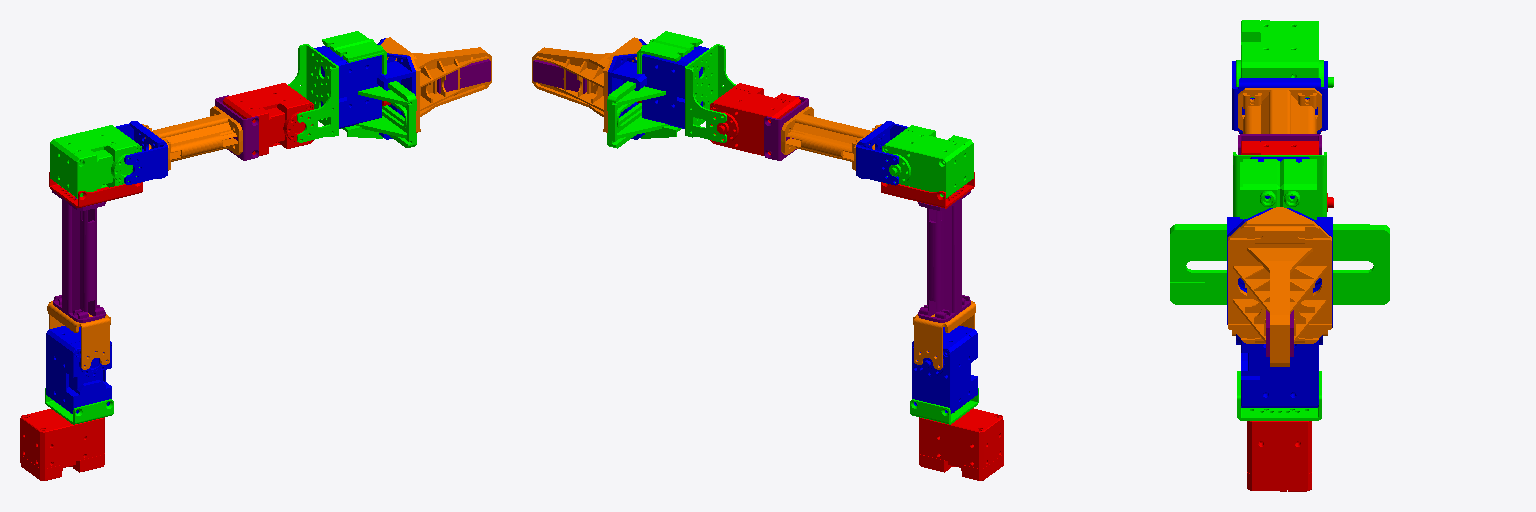
robot.urdf — rx_m52:
<?xml version="1.0" ?>
<robot name="rx_m52">

    <!-- 색상 정의 -->
    <material name="red">
        <color rgba="1.0 0.0 0.0 1.0"/>
    </material>
    <material name="green">
        <color rgba="0.0 1.0 0.0 1.0"/>
    </material>
    <material name="blue">
        <color rgba="0.0 0.0 1.0 1.0"/>
    </material>
    <material name="orange">
        <color rgba="1.0 0.5 0.0 1.0"/>
    </material>
    <material name="purple">
        <color rgba="0.5 0.0 0.5 1.0"/>
    </material>

    <!-- Base Link -->
    <link name="base_link" />


<!--순서-->
<!--   1=>2=>3=>... => body => right+left  -->


    <!-- Joint 1 -->
    <link name="joint1">
        <visual>
            <geometry>
                <mesh filename="package://rm_x52/meshes/joint1.stl" scale="0.001 0.001 0.001"/>
            </geometry>
            <material name="red"/>
        </visual>
    </link>

    <!-- Link 2 -->
    <link name="link2">
        <visual>
            <geometry>
                <mesh filename="package://rm_x52/meshes/link2.stl" scale="0.001 0.001 0.001"/>
            </geometry>
            <material name="green"/>
        </visual>
    </link>

    <!-- Joint 3 -->
    <link name="joint3">
        <visual>
            <geometry>
                <mesh filename="package://rm_x52/meshes/joint3.stl" scale="0.001 0.001 0.001"/>
            </geometry>
            <material name="blue"/>
        </visual>
    </link>

    <!-- Link 4 -->
    <link name="link4">
        <visual>
            <geometry>
                <mesh filename="package://rm_x52/meshes/link4.stl" scale="0.001 0.001 0.001"/>
            </geometry>
            <material name="orange"/>
        </visual>
    </link>

    <!-- Link 5 -->
    <link name="link5">
        <visual>
            <geometry>
                <mesh filename="package://rm_x52/meshes/link5.stl" scale="0.001 0.001 0.001"/>
            </geometry>
            <material name="purple"/>
        </visual>
    </link>

    <!-- Link 6 -->
    <link name="link6">
        <visual>
            <geometry>
                <mesh filename="package://rm_x52/meshes/link6.stl" scale="0.001 0.001 0.001"/>
            </geometry>
            <material name="red"/>
        </visual>
    </link>

    <!-- Joint 7 -->
    <link name="joint7">
        <visual>
            <geometry>
                <mesh filename="package://rm_x52/meshes/joint7.stl" scale="0.001 0.001 0.001"/>
            </geometry>
            <material name="green"/>
        </visual>
    </link>

    <!-- Link 8 -->
    <link name="link8">
        <visual>
            <geometry>
                <mesh filename="package://rm_x52/meshes/link8.stl" scale="0.001 0.001 0.001"/>
            </geometry>
            <material name="blue"/>
        </visual>
    </link>


    <!-- Link 9 -->
    <link name="link9">
        <visual>
            <geometry>
                <mesh filename="package://rm_x52/meshes/link9.stl" scale="0.001 0.001 0.001"/>
            </geometry>
            <material name="orange"/>
        </visual>
    </link>

    <!-- Link 10 -->
    <link name="link10">
        <visual>
            <geometry>
                <mesh filename="package://rm_x52/meshes/link10.stl" scale="0.001 0.001 0.001"/>
            </geometry>
            <material name="purple"/>
        </visual>
    </link>

    <!-- Joint 11 -->
    <link name="joint11">
        <visual>
            <geometry>
                <mesh filename="package://rm_x52/meshes/joint11.stl" scale="0.001 0.001 0.001"/>
            </geometry>
            <material name="red"/>
        </visual>
    </link>

    <!-- Link 12 -->
    <link name="link12">
        <visual>
            <geometry>
                <mesh filename="package://rm_x52/meshes/link12.stl" scale="0.001 0.001 0.001"/>
            </geometry>
            <material name="green"/>
        </visual>
    </link>


    <!-- Joint 13 -->
    <link name="joint13">
        <visual>
            <geometry>
                <mesh filename="package://rm_x52/meshes/joint13.stl" scale="0.001 0.001 0.001"/>
            </geometry>
            <material name="blue"/>
        </visual>
    </link>

    <!-- Left Finger 1 -->
    <link name="left_finger1">
        <visual>
            <geometry>
                <mesh filename="package://rm_x52/meshes/left_finger1.stl" scale="0.001 0.001 0.001"/>
            </geometry>
            <material name="green"/>
        </visual>
    </link>

    <!-- Right Finger 1 -->
    <link name="right_finger1">
        <visual>
            <geometry>
                <mesh filename="package://rm_x52/meshes/right_finger1.stl" scale="0.001 0.001 0.001"/>
            </geometry>
            <material name="green"/>
        </visual>
    </link>

    <!-- Left Finger 2 -->
    <link name="left_finger2">
        <visual>
            <geometry>
                <mesh filename="package://rm_x52/meshes/left_finger2.stl" scale="0.001 0.001 0.001"/>
            </geometry>
            <material name="blue"/>
        </visual>
    </link>

    <!-- Right Finger 2 -->
    <link name="right_finger2">
        <visual>
            <geometry>
                <mesh filename="package://rm_x52/meshes/right_finger2.stl" scale="0.001 0.001 0.001"/>
            </geometry>
            <material name="blue"/>
        </visual>
    </link>

    <!-- Left Finger 3 -->
    <link name="left_finger3">
        <visual>
            <geometry>
                <mesh filename="package://rm_x52/meshes/left_finger3.stl" scale="0.001 0.001 0.001"/>
            </geometry>
            <material name="orange"/>
        </visual>
    </link>

    <!-- Right Finger 3 -->
    <link name="right_finger3">
        <visual>
            <geometry>
                <mesh filename="package://rm_x52/meshes/right_finger3.stl" scale="0.001 0.001 0.001"/>
            </geometry>
            <material name="orange"/>
        </visual>
    </link>


    <!-- Left Finger 4 -->
    <link name="left_finger4">
        <visual>
            <geometry>
                <mesh filename="package://rm_x52/meshes/left_finger4.stl" scale="0.001 0.001 0.001"/>
            </geometry>
            <material name="purple"/>
        </visual>
    </link>

    <!-- Right Finger 4 -->
    <link name="right_finger4">
        <visual>
            <geometry>
                <mesh filename="package://rm_x52/meshes/right_finger4.stl" scale="0.001 0.001 0.001"/>
            </geometry>
            <material name="purple"/>
        </visual>
    </link>


    <!-- Finger Center -->
    <link name="finger_center">
        <visual>
            <geometry>
                <mesh filename="package://rm_x52/meshes/finger_center.stl" scale="0.001 0.001 0.001"/>
            </geometry>
            <material name="red"/>
        </visual>
    </link>






    <!-- Base to Joint1 -->
    <joint name="base_joint1" type="revolute">
        <parent link="base_link"/>
        <child link="joint1"/>
        <origin xyz="0 0 0" rpy="1.57 0 0"/> <!-- 6mm -->
        <axis xyz="0 1 0"/> <!-- z축 회전 -->
        <limit lower="-3.14159" upper="3.14159" effort="50.0" velocity="1.0"/>
    </joint>

    <!-- Joint1 to Link2 -->
    <joint name="joint1_link2" type="fixed">
        <parent link="joint1"/>
        <child link="link2"/>
        <origin xyz="0 0.055 0" rpy="0 0 0"/>
    </joint>

    <!-- Link2 to Joint3 -->
    <joint name="link2_joint3" type="fixed">
        <parent link="link2"/>
        <child link="joint3"/>
        <origin xyz="0 0.021 0" rpy="0 0 0"/>
    </joint>

    <!-- Joint3 to Link4 -->
    <joint name="joint3_link4" type="revolute">
        <parent link="joint3"/>
        <child link="link4"/>
        <origin xyz="0 0 0" rpy="0 0 0"/>
        <axis xyz="0 0 1"/>
        <limit lower="-1.57" upper="1.57" effort="50.0" velocity="1.0"/>
    </joint>

    <!-- Link4 to Link5 -->
    <joint name="link4_link5" type="fixed">
        <parent link="link4"/>
        <child link="link5"/>
        <origin xyz="0 0.028 0" rpy="0 0 0"/>
    </joint>

    <!-- Link5 to Link6 -->
    <joint name="link5_link6" type="fixed">
        <parent link="link5"/>
        <child link="link6"/>
        <origin xyz="0 0.099 0" rpy="0 0 0"/>
    </joint>

        <!-- Link6 to Joint7 -->
    <joint name="link6_joint7" type="fixed">
        <parent link="link6"/>
        <child link="joint7"/>
        <origin xyz="0.024 0 0" rpy="0 0 0"/>
    </joint>

    <!-- Joint7 to Link8 -->
    <joint name="joint7_link8" type="revolute">
        <parent link="joint7"/>
        <child link="link8"/>
        <origin xyz="0 0 0" rpy="0 0 0"/>
        <axis xyz="0 0 1"/>
        <limit lower="-1.57" upper="1.57" effort="50.0" velocity="1.0"/>
    </joint>

    <!-- Link8 to Link9 -->
    <joint name="link8_link9" type="fixed">
        <parent link="link8"/>
        <child link="link9"/>
        <origin xyz="0.028 0 0" rpy="0 0 0"/>
    </joint>

    <!-- Link9 to Link10 -->
    <joint name="link9_link10" type="fixed">
        <parent link="link9"/>
        <child link="link10"/>
        <origin xyz="0.075 0 0" rpy="0 0 0"/>
    </joint>

    <!-- Link10 to Joint11 -->
    <joint name="link10_joint11" type="fixed">
        <parent link="link10"/>
        <child link="joint11"/>
        <origin xyz="0.021 0 0" rpy="0 0 0"/>
    </joint>

    <!-- Joint11 to Link12 -->
    <joint name="joint11_link12" type="revolute">
        <parent link="joint11"/>
        <child link="link12"/>
        <origin xyz="0 0 0" rpy="0 0 0"/>
        <axis xyz="0 0 1"/>
        <limit lower="-1.57" upper="1.57" effort="50.0" velocity="1.0"/>
    </joint>


    <!-- Link12 to Joint13 -->
    <joint name="link12_joint13" type="fixed">
        <parent link="link12"/>
        <child link="joint13"/>
        <origin xyz="0.045 0 0" rpy="0 0 0"/>
    </joint>



    <!--Gripper 1 -->
    <joint name="joint13_lbody1" type="fixed">
        <parent link="joint13"/>
        <child link="left_finger1"/>
        <origin xyz="0.022 0 0.002" rpy="0 0 0"/>
    </joint>


    <joint name="joint13_rbody1" type="fixed">
        <parent link="joint13"/>
        <child link="right_finger1"/>
        <origin xyz="0.022 0 -0.002" rpy="0 0 0"/>
    </joint>

   <!--Gripper 2 -->
    <joint name="lbody1_lbody2" type="prismatic">
        <parent link="left_finger1"/>
        <child link="left_finger2"/>
        <origin xyz="0 0 -0.015" rpy="0 0 0"/>
        <axis xyz="0 0 1"/> <!-- z축 방향 -->
        <limit lower="0.0" upper="0" effort="50.0" velocity="3.0"/>
    </joint>

    <joint name="rbody1_rbody2" type="prismatic">
        <parent link="right_finger1"/>
        <child link="right_finger2"/>
        <origin xyz="0 0 0.015" rpy="0 0 0"/>
        <axis xyz="0 0 1"/>
        <limit lower="0.0" upper="0.03" effort="50.0" velocity="3.0"/>
        <mimic joint="lbody1_lbody2" multiplier="-1.0"/> <!-- gripper_right의 반대 방향으로 이동 -->
    </joint>



    <!--Gripper 3 -->
    <joint name="lbody2_lbody3" type="fixed">
        <parent link="left_finger2"/>
        <child link="left_finger3"/>
        <origin xyz="0.014 0 0.013" rpy="0 0 0"/>
    </joint>


   <joint name="rbody2_rbody3" type="fixed">
        <parent link="right_finger2"/>
        <child link="right_finger3"/>
        <origin xyz="0.014 0 -0.013" rpy="0 0 0"/>
    </joint>

    <!--Gripper 4 -->
    <joint name="lbody3_lbody4" type="fixed">
        <parent link="left_finger3"/>
        <child link="left_finger4"/>
        <origin xyz="0.045 0 0.002" rpy="0 0 0"/>
    </joint>


   <joint name="rbody3_rbody4" type="fixed">
        <parent link="right_finger3"/>
        <child link="right_finger4"/>
        <origin xyz="0.045 0 -0.002" rpy="0 0 0"/>
    </joint>

    <!--Gripper center -->
    <joint name="center" type="fixed">
        <parent link="left_finger1"/>
        <child link="finger_center"/>
        <origin xyz="0 0 0" rpy="0 0 0"/>
    </joint>





</robot>

--- Render facts (derived) ---
Views: 3 orthographic renders of the robot side by side, from view 1: azimuth 30°, elevation 25°; view 2: azimuth 150°, elevation 25°; view 3: azimuth 270°, elevation 25°.
Model rx_m52 with 23 links and 22 joints (4 revolute, 2 prismatic, 16 fixed), rooted at base_link, posed every joint at zero.
Links seen in each view (by area): view 1: joint1, joint7, link5, joint3, joint11, link12, link9, right_finger1, joint13, link8, link4, right_finger3 (+7 smaller); view 2: joint1, joint7, link5, joint3, joint11, link12, link9, left_finger1, joint13, left_finger3, link8, link4 (+7 smaller); view 3: left_finger3, left_finger1, right_finger1, right_finger3, joint7, joint1, joint3, link9, link8, link2, link12, joint11 (+1 smaller).
Boxes of the visible links, <box> form: joint1: <box>20,409,104,480</box>; joint7: <box>50,125,141,198</box>; link5: <box>52,190,105,322</box>; joint3: <box>46,326,111,413</box>; joint11: <box>223,83,313,155</box>; link12: <box>288,44,338,142</box>; link9: <box>142,106,242,170</box>; right_finger1: <box>322,31,416,147</box>; joint13: <box>314,46,381,128</box>; link8: <box>116,121,167,184</box>; link4: <box>47,301,110,369</box>; right_finger3: <box>381,39,484,132</box>; joint1: <box>919,408,1003,480</box>; joint7: <box>882,125,973,198</box>; link5: <box>918,191,970,322</box>; joint3: <box>912,326,977,413</box>; joint11: <box>710,83,800,155</box>; link12: <box>685,44,735,142</box>; link9: <box>781,106,881,170</box>; left_finger1: <box>607,31,702,148</box>; joint13: <box>642,46,708,128</box>; left_finger3: <box>538,38,642,132</box>; link8: <box>856,121,907,185</box>; link4: <box>913,301,975,369</box>; left_finger3: <box>1245,207,1331,366</box>; left_finger1: <box>1240,159,1389,304</box>; right_finger1: <box>1170,159,1316,304</box>; right_finger3: <box>1228,207,1312,366</box>; joint7: <box>1236,20,1333,97</box>; joint1: <box>1247,421,1311,491</box>; joint3: <box>1236,325,1332,407</box>; link9: <box>1238,88,1321,133</box>; link8: <box>1232,61,1327,133</box>; link2: <box>1237,371,1321,420</box>; link12: <box>1233,152,1326,216</box>; joint11: <box>1241,141,1333,211</box>.
Size in the robot's own frame: 0.3293 by 0.096 by 0.2408 metres.
22 mesh visuals loaded from 22 distinct referenced files (22 binary STL).
